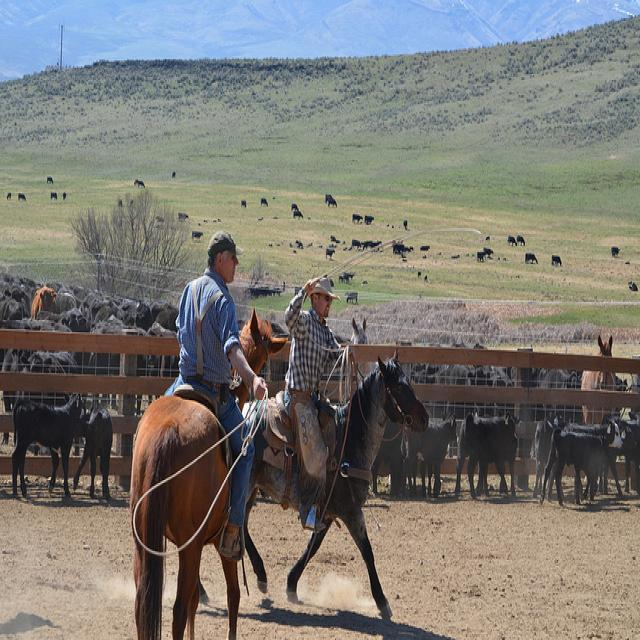cow: (10, 391, 82, 498), (538, 418, 623, 504), (454, 408, 520, 498), (406, 408, 456, 497), (70, 393, 112, 498), (532, 412, 551, 495), (623, 408, 639, 494), (0, 296, 29, 317), (505, 233, 515, 245), (475, 249, 485, 260), (550, 254, 560, 264), (351, 212, 362, 221), (515, 233, 523, 245), (292, 209, 302, 218)
